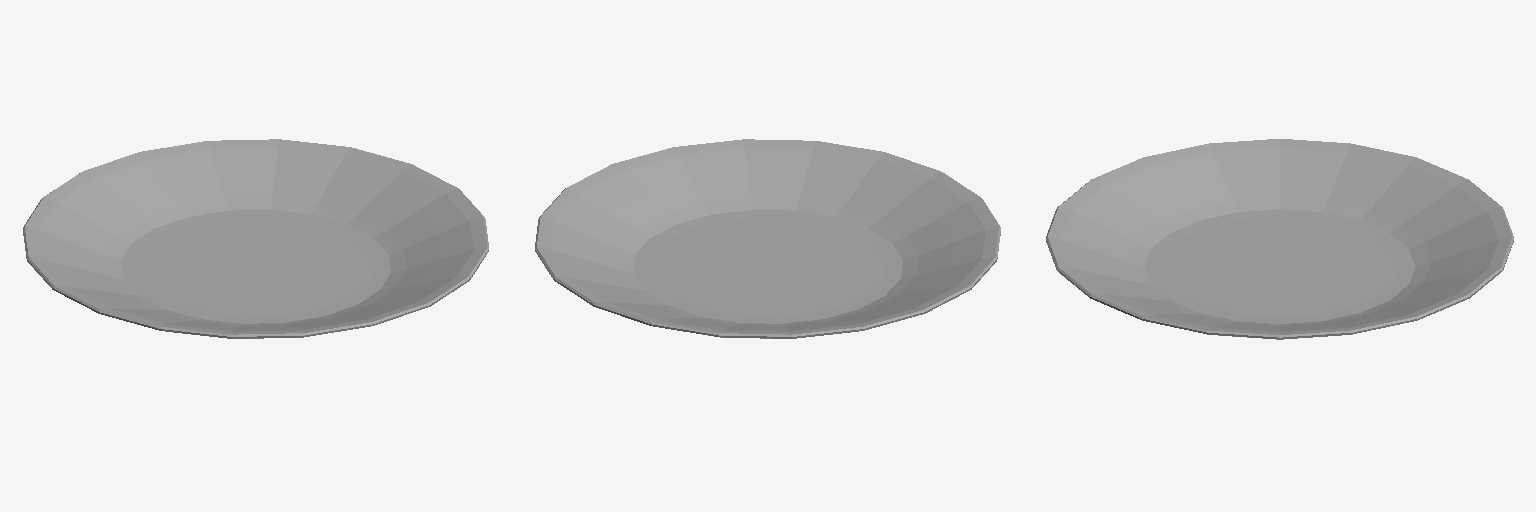
The model's file is Coffee Plate BB.obj.
3 renders of one model, left to right at view 1: azimuth 30°, elevation 25°; view 2: azimuth 150°, elevation 25°; view 3: azimuth 270°, elevation 25°, orthographic.
Visible parts, largest first — view 1: Coffee Plate BB; view 2: Coffee Plate BB; view 3: Coffee Plate BB.
Part boxes in pixels (bbox=[...]): Coffee Plate BB: bbox=[23, 139, 488, 338]; Coffee Plate BB: bbox=[535, 139, 1000, 338]; Coffee Plate BB: bbox=[1046, 139, 1513, 339].
Size of the model in its own units: 0.2386 by 0.0214 by 0.2383.